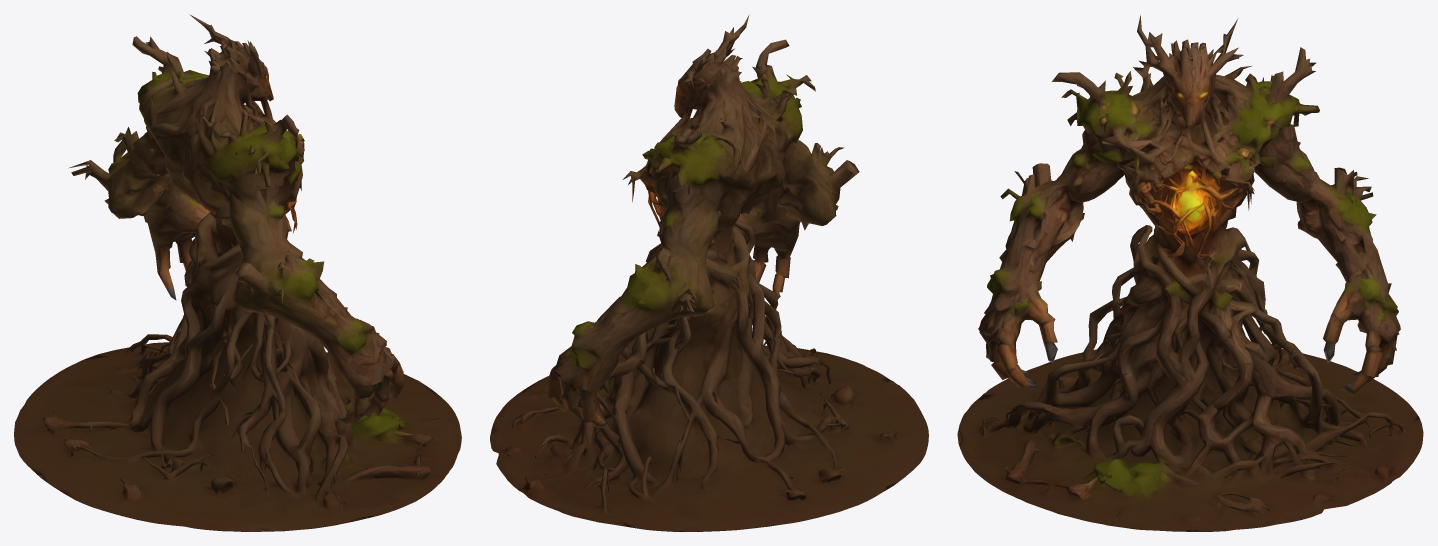
The model's file is root_colossus.glb.
3 views of the same model, side by side, from view 1: azimuth 30°, elevation 25°; view 2: azimuth 150°, elevation 25°; view 3: azimuth 270°, elevation 25° (orthographic). The views are drawn at different scales.
Parts seen in each view (by area): view 1: tripo_node_f8f6165e-dc3c-4eb6-989a-f9faf88a321e; view 2: tripo_node_f8f6165e-dc3c-4eb6-989a-f9faf88a321e; view 3: tripo_node_f8f6165e-dc3c-4eb6-989a-f9faf88a321e.
Boxes of the visible parts, x1,y1,x2,y2 form: tripo_node_f8f6165e-dc3c-4eb6-989a-f9faf88a321e: (14,14,461,531); tripo_node_f8f6165e-dc3c-4eb6-989a-f9faf88a321e: (490,14,928,531); tripo_node_f8f6165e-dc3c-4eb6-989a-f9faf88a321e: (957,15,1423,531).
Size of the model in its own units: 0.9503 by 0.992 by 1.
1 material, 1 textured.
